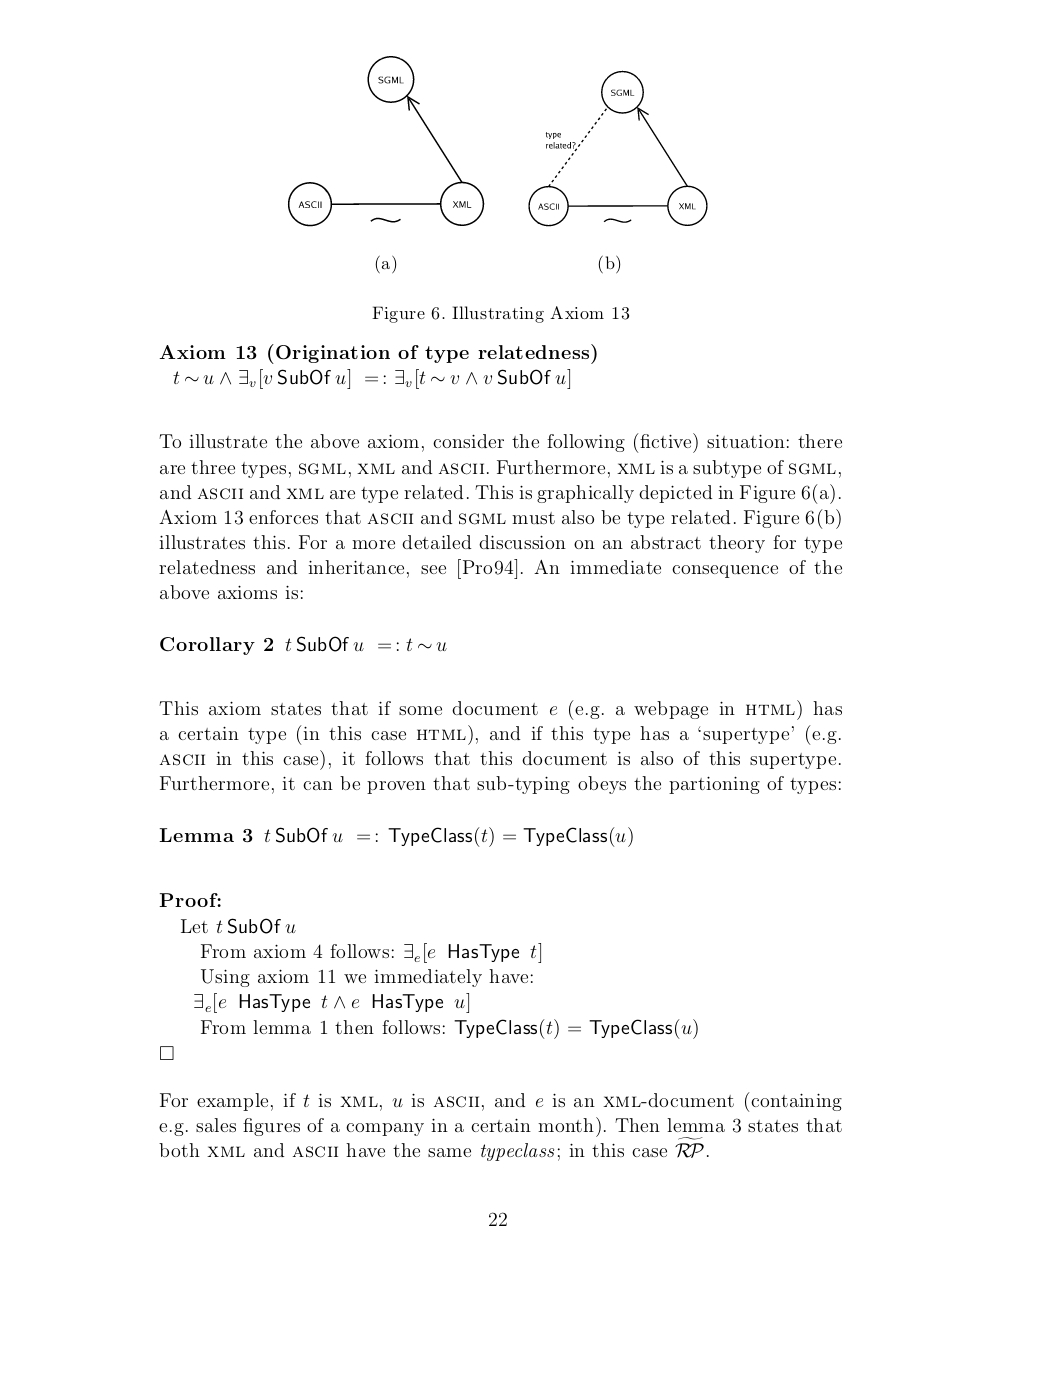figure: (288, 56, 484, 226), (528, 70, 707, 226)
formula: (159, 826, 632, 847), (173, 368, 570, 389), (160, 635, 446, 655)
